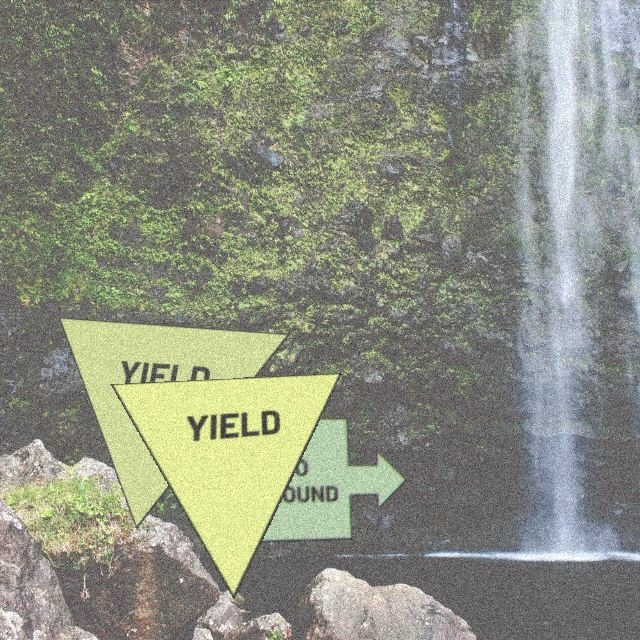GO_AROUND: (175, 417, 407, 543)
YIELD: (110, 373, 342, 599), (58, 317, 290, 529)
